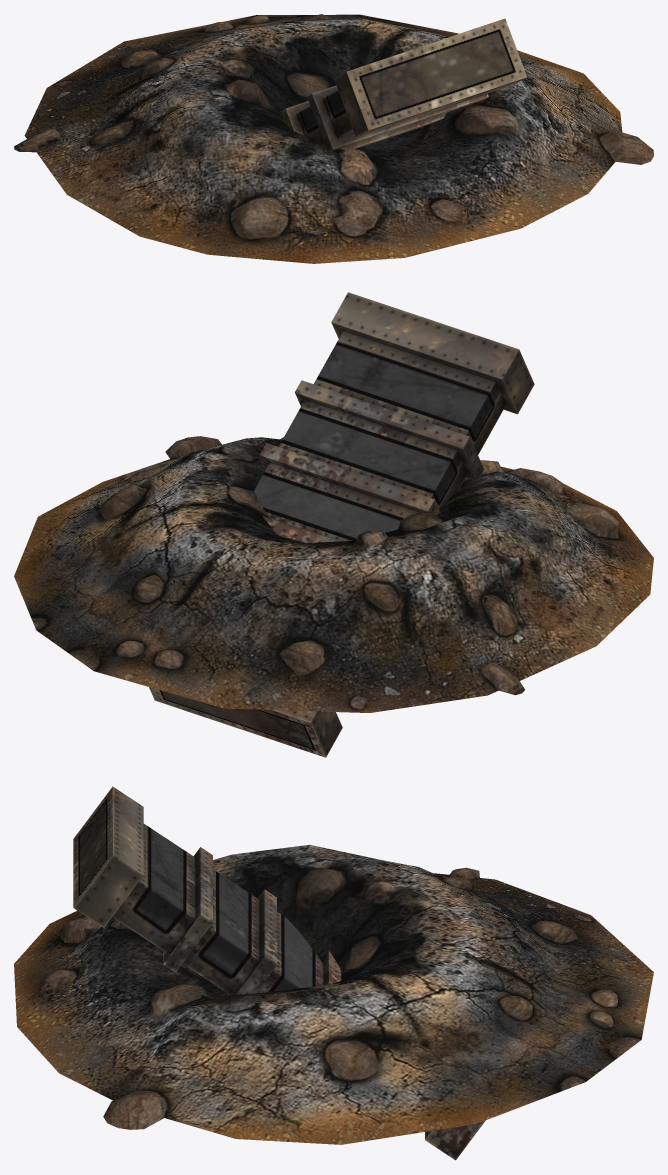
Rendered from rubble_crater_3x3.dae.
3 renders of one model, top to bottom at view 1: azimuth 30°, elevation 25°; view 2: azimuth 150°, elevation 25°; view 3: azimuth 270°, elevation 25°, orthographic. The views are drawn at different scales.
Parts seen in each view (by area): view 1: crater1, rubble_box_1x2; view 2: crater1, rubble_box_1x2; view 3: crater1, rubble_box_1x2.
Boxes of the visible parts, x1,y1,x2,y2 form: crater1: (14,14,653,263); rubble_box_1x2: (280,18,526,151); crater1: (14,436,653,712); rubble_box_1x2: (149,292,534,757); crater1: (14,845,653,1144); rubble_box_1x2: (73,786,485,1160).
Bounding box in the file's own units: 8.01 × 7.87 × 4.2.
Materials: 2 (2 with a texture image).
